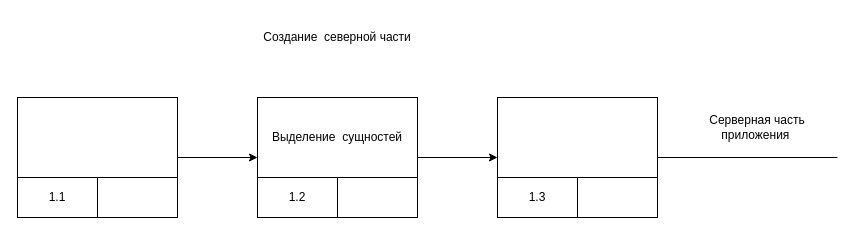
Some shapes in this 856 by 235 pixel diagram are drawn without their labels. Each missing label, with the centre of its shape:
"Изучение предметной области" belongs at pixel 97 137.
"Создание схемы базы данных" belongs at pixel 577 137.
